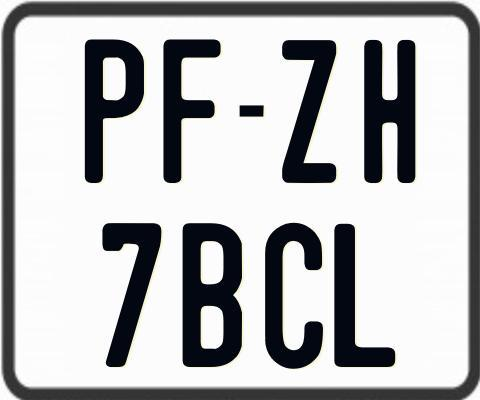7: (102, 221, 166, 366)
B: (182, 221, 242, 369)
C: (263, 223, 321, 372)
F: (162, 37, 225, 185)
H: (361, 40, 417, 189)
L: (332, 221, 396, 369)
P: (82, 38, 141, 185)
Z: (280, 39, 336, 188)
